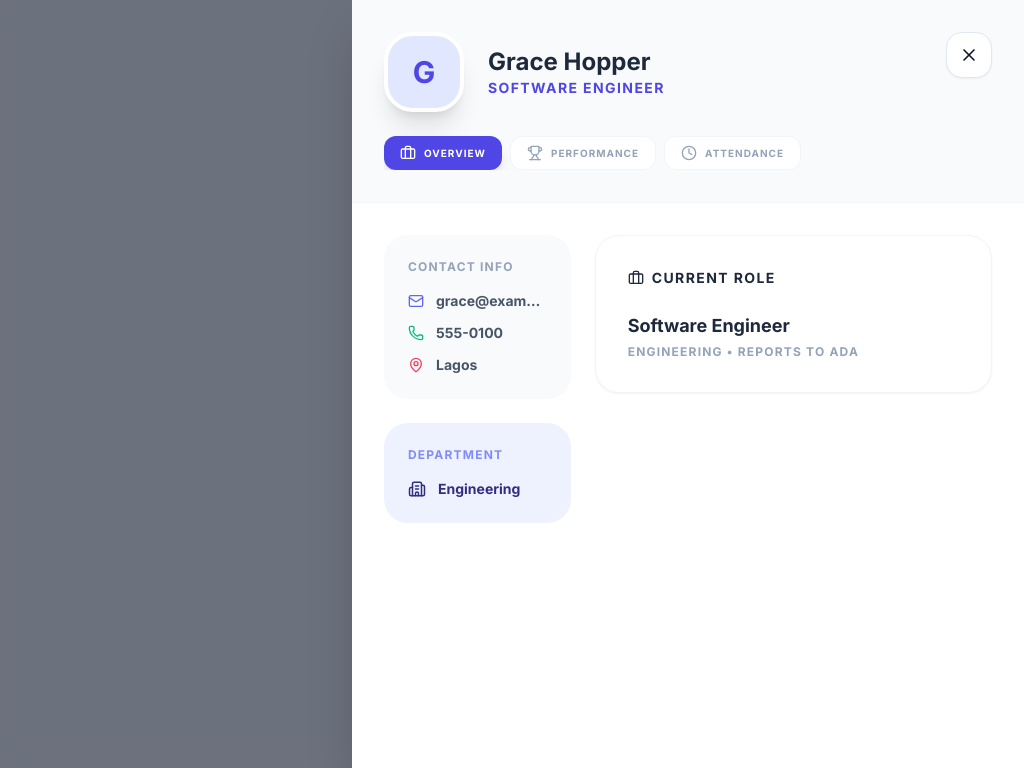
EmployeeDetailModal › lists goals with progress on the Performance tab
The width and height of the screenshot is (1024, 768).
Click the button "Performance" at point(583, 153), box x1=510 y1=136 x2=656 y2=170
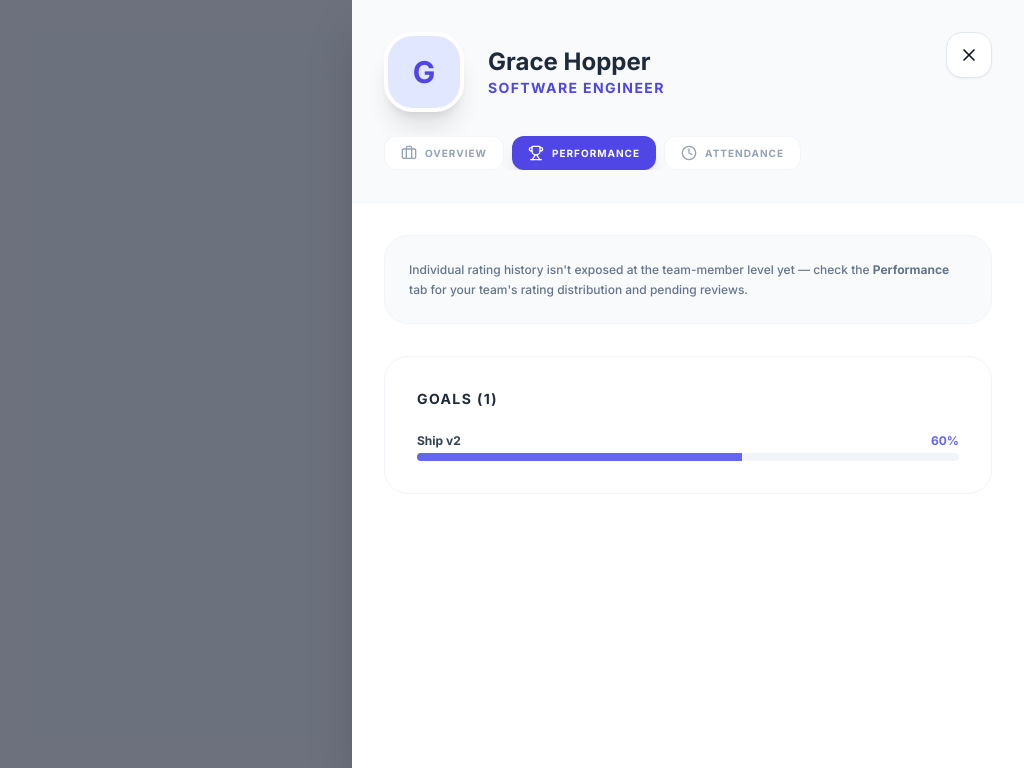
Expected: the heading "Goals (1)" is shown, x1=417 y1=390 x2=498 y2=407
Expected: the text "Ship v2" is shown, x1=417 y1=433 x2=461 y2=449
Expected: the text "60%" is shown, x1=931 y1=433 x2=959 y2=449
